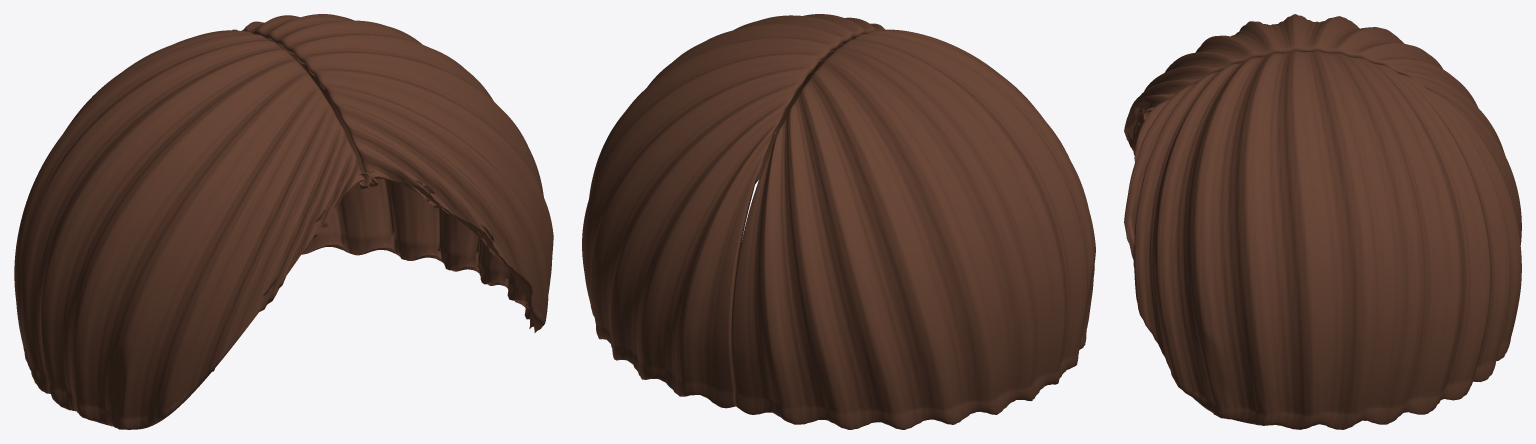
The model's file is Masculine-middle-part-pashmina252-hair.glb.
3 views of the same model, side by side, from view 1: azimuth 30°, elevation 25°; view 2: azimuth 150°, elevation 25°; view 3: azimuth 270°, elevation 25° (orthographic). The views are drawn at different scales.
Parts seen in each view (by area): view 1: 226 hair / Hair252 / flowing sculpt middle.001; view 2: 226 hair / Hair252 / flowing sculpt middle.001; view 3: 226 hair / Hair252 / flowing sculpt middle.001.
Boxes of the visible parts, box(x1,y1,x2,y2) form: 226 hair / Hair252 / flowing sculpt middle.001: box(14, 14, 553, 429); 226 hair / Hair252 / flowing sculpt middle.001: box(582, 14, 1095, 429); 226 hair / Hair252 / flowing sculpt middle.001: box(1124, 14, 1521, 429).
Size of the model in its own units: 1.06 by 0.6587 by 0.8322.
